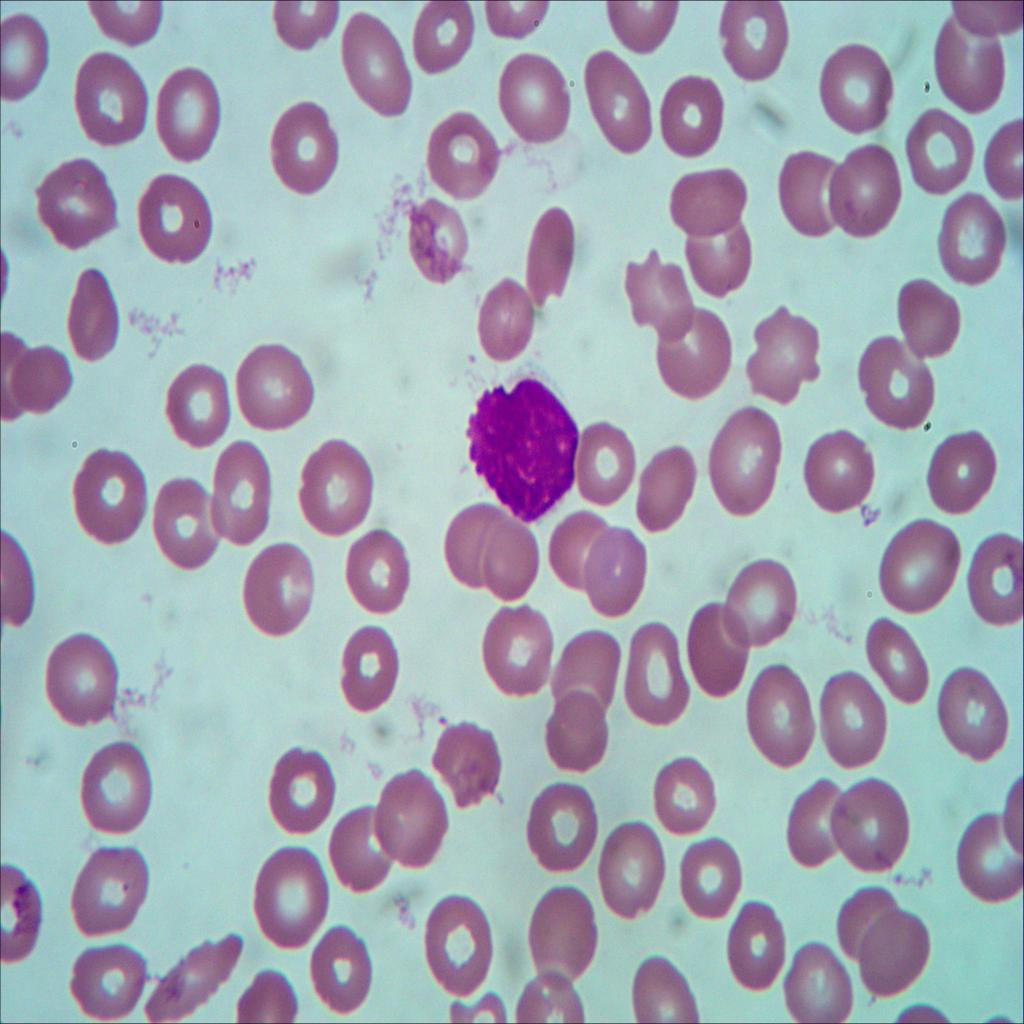Eritrosit: (698, 401, 789, 523), (737, 652, 820, 776), (421, 886, 505, 1008), (246, 837, 332, 955), (64, 447, 151, 555), (487, 46, 580, 146), (420, 105, 505, 214), (858, 603, 938, 718), (613, 240, 704, 340), (584, 33, 657, 157), (35, 148, 122, 252), (339, 10, 418, 122), (473, 271, 554, 377), (72, 51, 157, 152), (950, 793, 1024, 909), (798, 414, 881, 517), (232, 536, 320, 633), (430, 709, 505, 822), (524, 883, 600, 994), (32, 633, 122, 726), (931, 11, 1012, 114), (74, 736, 156, 837), (70, 842, 158, 936), (260, 98, 346, 194), (525, 782, 597, 896), (676, 601, 752, 709), (638, 744, 725, 838), (648, 303, 734, 398), (298, 439, 384, 533), (596, 820, 668, 932), (744, 308, 824, 408), (624, 441, 704, 541), (144, 932, 240, 1015), (829, 140, 915, 232), (815, 40, 899, 134), (206, 436, 280, 542), (705, 0, 796, 86), (130, 174, 215, 266), (63, 246, 123, 374), (932, 187, 1007, 289), (667, 830, 744, 928), (722, 560, 804, 652), (623, 620, 693, 726), (717, 891, 787, 996), (822, 664, 890, 772), (943, 661, 1012, 766), (835, 782, 913, 874), (238, 341, 323, 425), (880, 519, 959, 609), (899, 114, 981, 200), (156, 66, 226, 166), (382, 771, 450, 872), (778, 144, 844, 248), (896, 273, 966, 371), (780, 932, 854, 1024), (966, 520, 1024, 636), (860, 338, 930, 434), (68, 943, 150, 1024), (930, 424, 1000, 518), (0, 339, 80, 421), (622, 942, 702, 1024), (482, 604, 554, 695), (665, 68, 731, 165), (153, 476, 219, 572), (264, 749, 337, 834), (584, 530, 651, 622), (790, 774, 856, 867), (574, 419, 642, 509), (161, 362, 235, 444), (666, 165, 756, 231), (330, 628, 408, 704), (408, 2, 484, 79), (540, 688, 607, 774), (408, 190, 467, 287), (548, 510, 613, 598), (310, 926, 374, 1015), (692, 210, 758, 296), (335, 801, 389, 905), (553, 626, 618, 712), (444, 501, 508, 587), (523, 210, 580, 304), (348, 525, 411, 610), (0, 8, 54, 103), (859, 921, 931, 991), (482, 531, 546, 606), (834, 890, 896, 956), (981, 112, 1024, 202)
Limfoblast: (466, 376, 584, 526)
